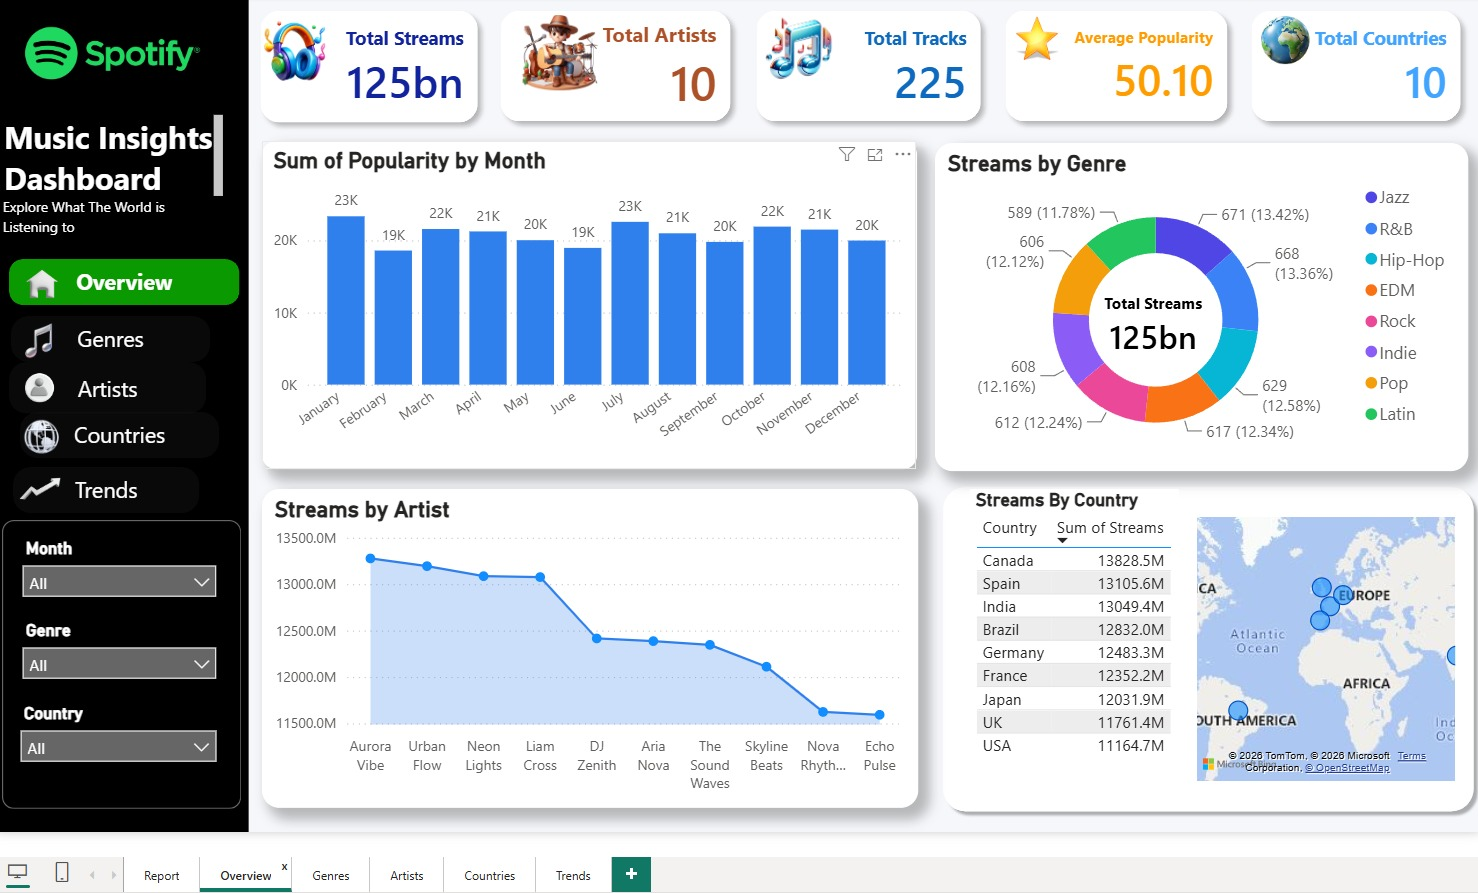

The page's visual inventory and layout, read from the dashboard file:
{"tool":"powerbi","page":{"name":"Overview","canvas":[1280,720],"ordinal":1},"visuals":[{"type":"shape","box":[770.9,415,509.1,294.4],"z":0},{"type":"shape","box":[0,0,200,720.2],"z":1000},{"type":"image","box":[16.9,12.1,167.7,68.8],"z":2000},{"type":"image","box":[0,0,200.3,114.6],"z":3000},{"type":"textbox","box":[1.2,96.5,199.1,86.9],"z":4000},{"type":"actionButton","box":[10,275,152.5,40],"z":5000},{"type":"actionButton","box":[10,320,152.5,40],"z":6000},{"type":"actionButton","box":[7.5,368.8,156.2,40],"z":7000},{"type":"actionButton","box":[10,415,152.5,40],"z":8000},{"type":"actionButton","box":[10,225,152.5,40],"z":9000},{"type":"cardVisual","fields":{"Data":["Spotify_Data.Total Streams"]},"box":[202.5,7.5,190,100],"z":10000},{"type":"cardVisual","fields":{"Data":["Spotify_Data.Total Artists"]},"box":[409.5,7.1,203.6,100],"z":11000},{"type":"cardVisual","fields":{"Data":["Spotify_Data.Total Countries"]},"box":[631,7.1,203.6,100],"z":12000},{"type":"cardVisual","fields":{"Data":["Spotify_Data.Total Tracks"]},"box":[851.2,7.1,203.6,100],"z":13000},{"type":"cardVisual","fields":{"Data":["Spotify_Data.Average Popularity"]},"box":[1071.4,7.1,198.8,100],"z":14000},{"type":"clusteredColumnChart","fields":{"Category":["Spotify_Data.Release_Date.Variation.Date Hierarchy.Month"],"Y":["Sum(Spotify_Data.Popularity)"]},"box":[202.7,125.5,553.8,283.5],"z":15000},{"type":"donutChart","fields":{"Category":["Spotify_Data.Genre"],"Y":["CountNonNull(Spotify_Data.Country)"]},"box":[779.4,125.5,489.8,283.5],"z":16000},{"type":"areaChart","fields":{"Category":["Spotify_Data.Artist"],"Y":["Sum(Spotify_Data.Streams)"]},"box":[202.7,424.7,553.8,275.1],"z":17000},{"type":"map","fields":{"Category":["Spotify_Data.Country"],"Size":["Spotify_Data.Total Genres"]},"box":[974.8,435.5,283.5,249.7],"z":18000},{"type":"tableEx","title":"Streams By Country","fields":{"Values":["Spotify_Data.Country","Sum(Spotify_Data.Streams)"]},"box":[795,435.5,179.8,249.7],"z":19000},{"type":"textbox","box":[1.2,166.5,160.5,49.5],"z":20000}]}

Visuals, with their boxes on the page's 1280x720 design canvas (x1, y1, x2, y2). These are canvas units, not pixel positions in the 1478x893 screenshot, which may show the page scaled, cropped or inside an application window:
shape: detection(771, 415, 1280, 709)
shape: detection(0, 0, 200, 720)
image: detection(17, 12, 185, 81)
image: detection(0, 0, 200, 115)
textbox: detection(1, 96, 200, 183)
actionButton: detection(10, 275, 162, 315)
actionButton: detection(10, 320, 162, 360)
actionButton: detection(8, 369, 164, 409)
actionButton: detection(10, 415, 162, 455)
actionButton: detection(10, 225, 162, 265)
cardVisual - Spotify_Data.Total Streams: detection(202, 8, 392, 108)
cardVisual - Spotify_Data.Total Artists: detection(410, 7, 613, 107)
cardVisual - Spotify_Data.Total Countries: detection(631, 7, 835, 107)
cardVisual - Spotify_Data.Total Tracks: detection(851, 7, 1055, 107)
cardVisual - Spotify_Data.Average Popularity: detection(1071, 7, 1270, 107)
clusteredColumnChart - Spotify_Data.Release_Date.Variation.Date Hierarchy.Month x Sum(Spotify_Data.Popularity): detection(203, 126, 756, 409)
donutChart - Spotify_Data.Genre x CountNonNull(Spotify_Data.Country): detection(779, 126, 1269, 409)
areaChart - Spotify_Data.Artist x Sum(Spotify_Data.Streams): detection(203, 425, 756, 700)
map - Spotify_Data.Country x Spotify_Data.Total Genres: detection(975, 436, 1258, 685)
"Streams By Country" tableEx: detection(795, 436, 975, 685)
textbox: detection(1, 166, 162, 216)
